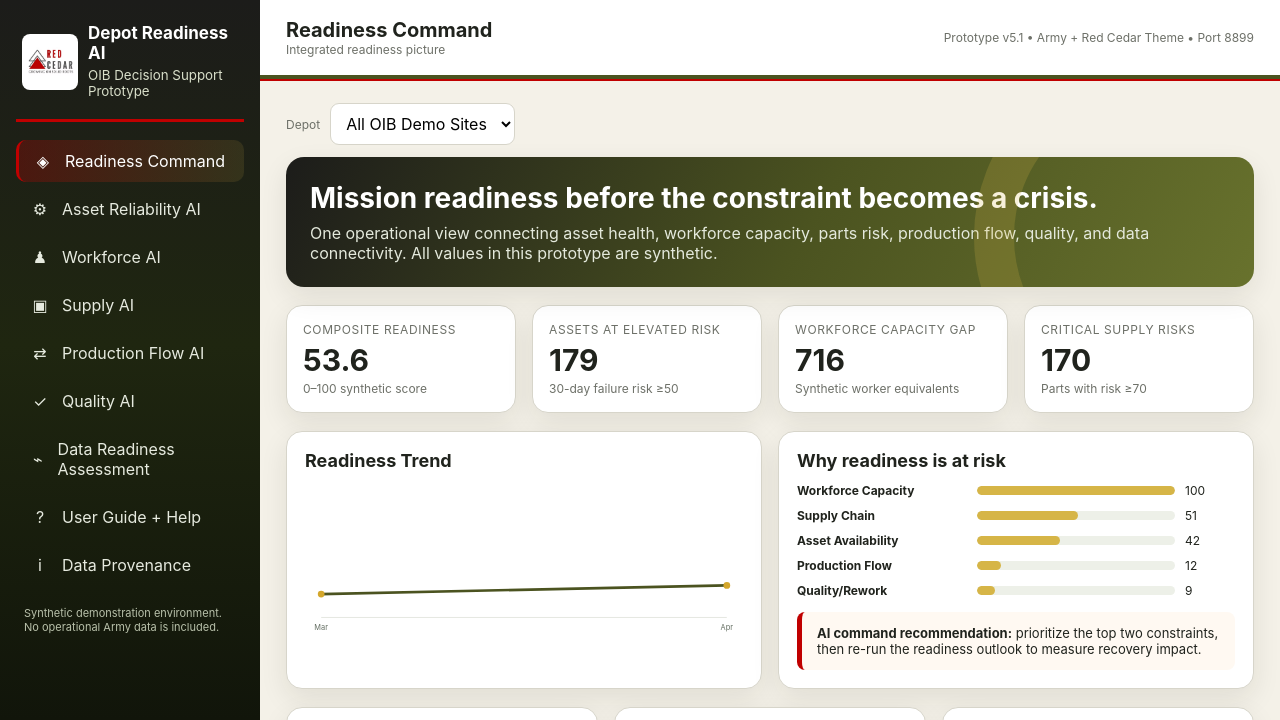
Test: Depot Readiness React UI › opens and closes the same sidebar through the mobile menu control
Earlier steps of the test are not shown.
Expected: the element with class "side" has class "open", [0,0,260,719]
Click the button "✓ Quality AI" at [130, 401], box [16,380,244,422]
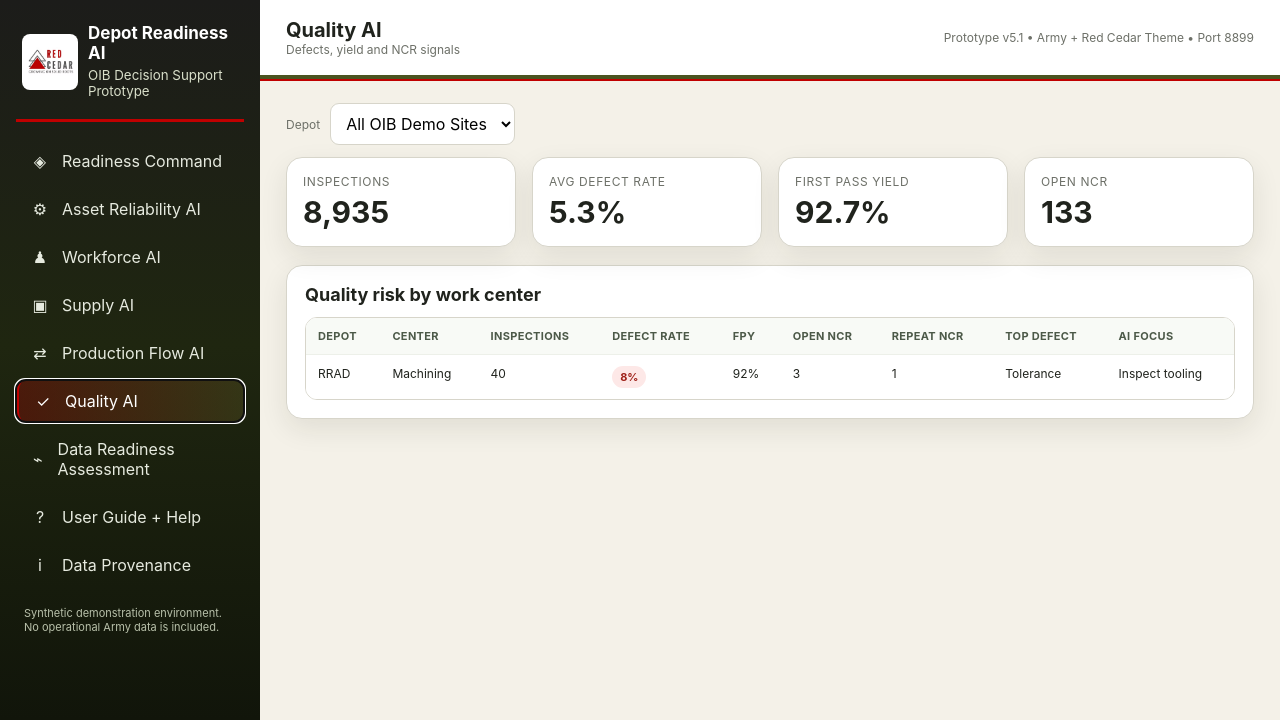
Expected: the element with class "side" does not have class "open", [0,0,260,719]
